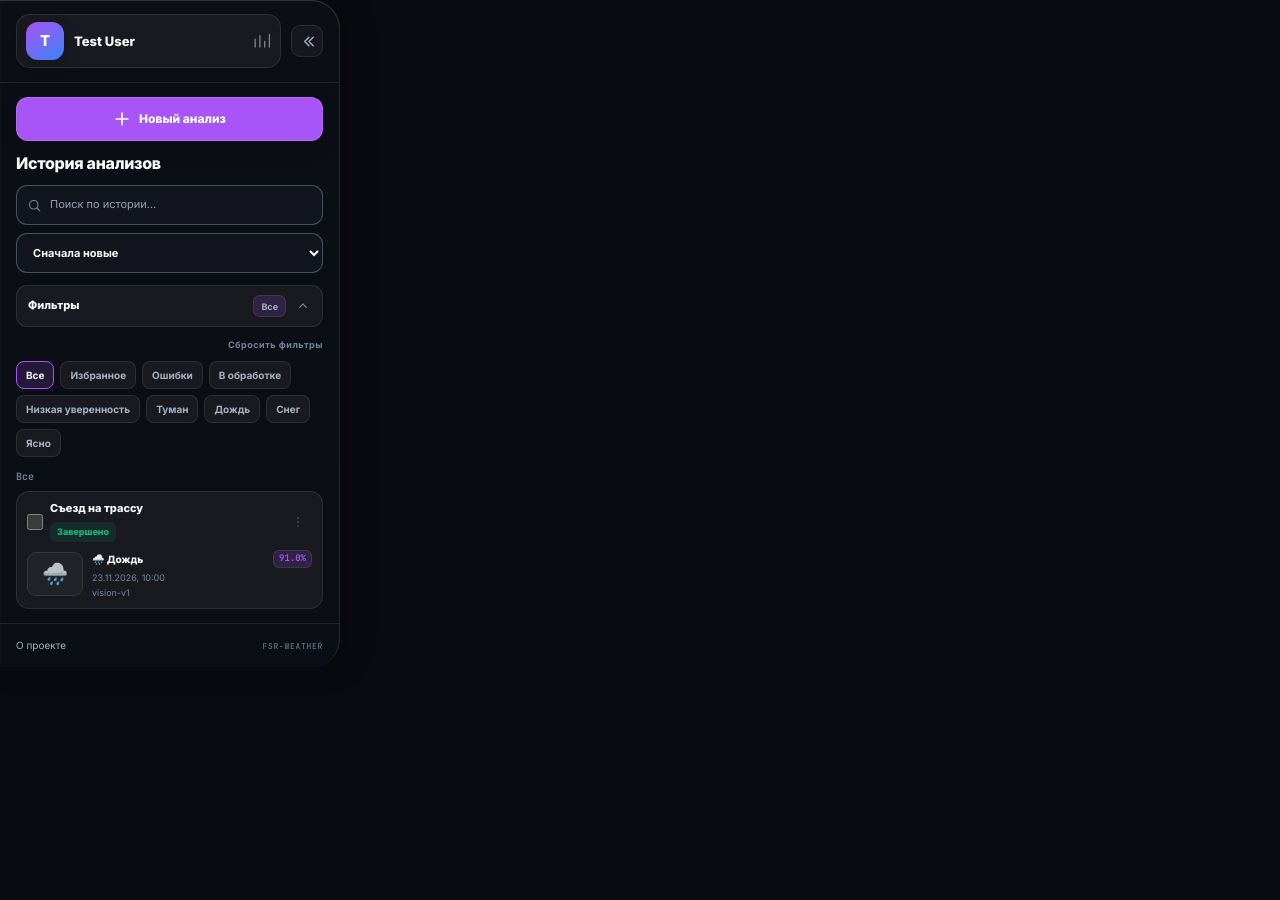
Scenario: History sidebar actions menu › closes the menu after clicking outside the sidebar
The image size is (1280, 900).
Click the button named "Действия для Съезд на трассу" at {"x": 298, "y": 522}, box [284,508,312,536]
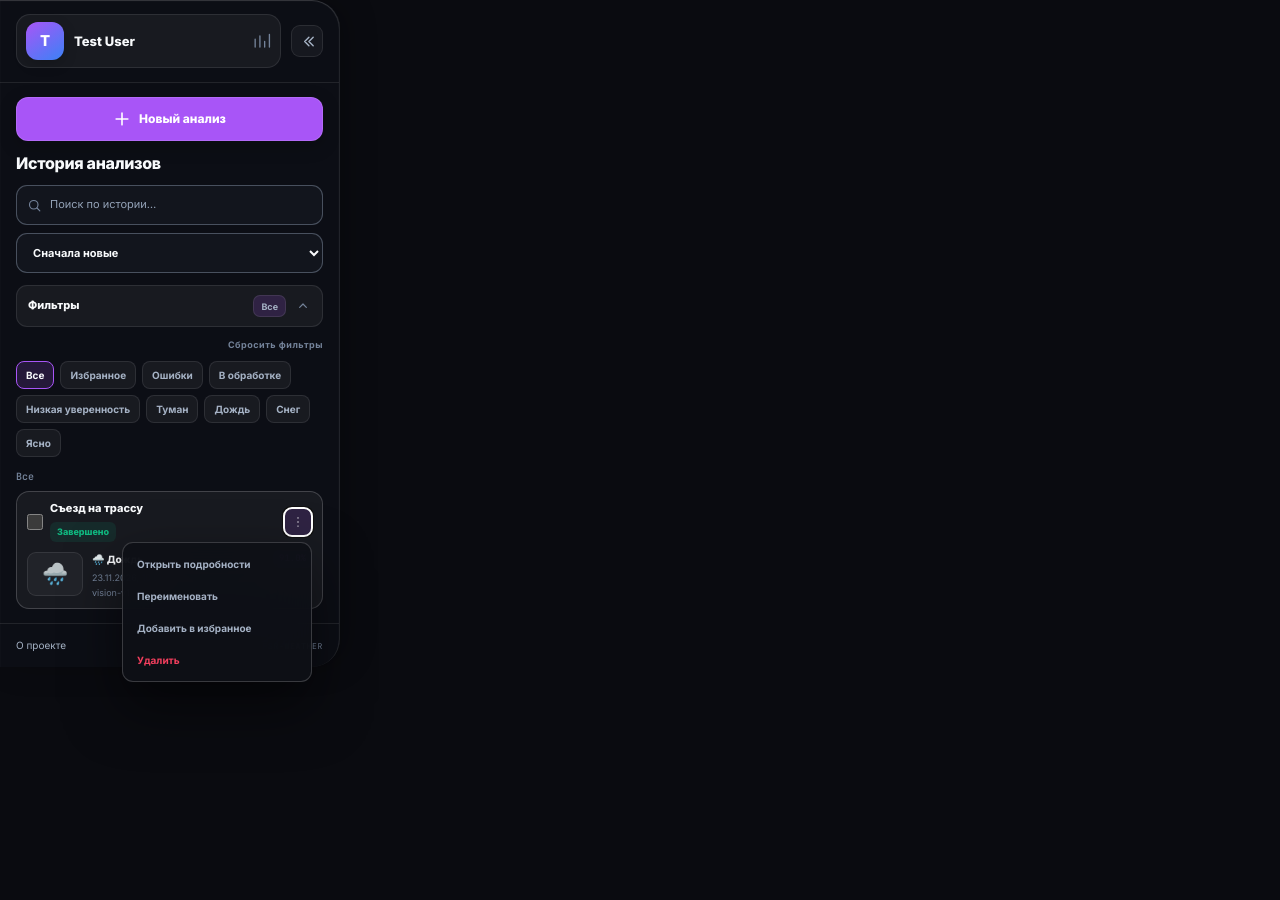
Now the menu is shown, box [122,542,312,682]
Click the element that starts with "Test User" at {"x": 640, "y": 334}, box [0,0,1279,667]
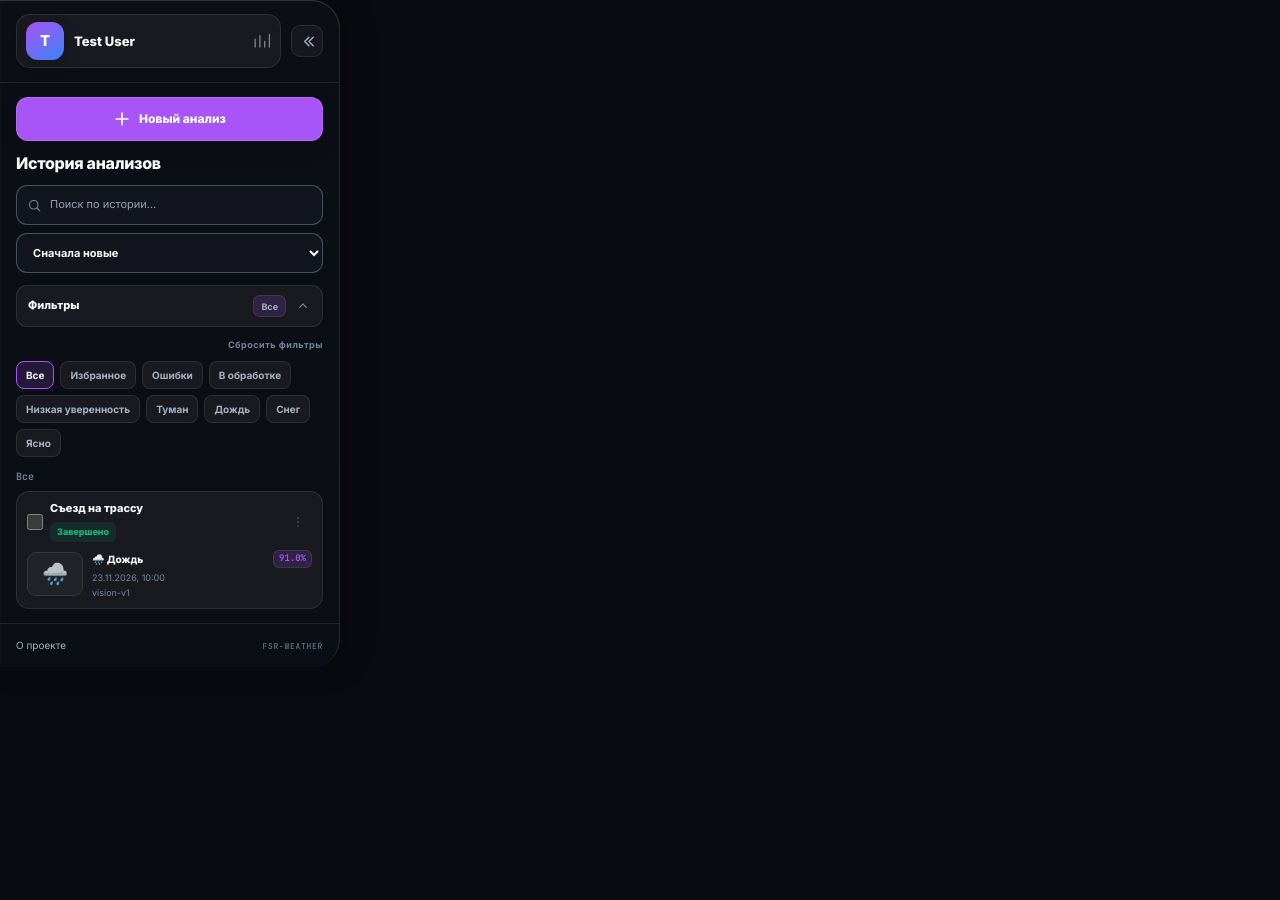
Now the menu is gone
